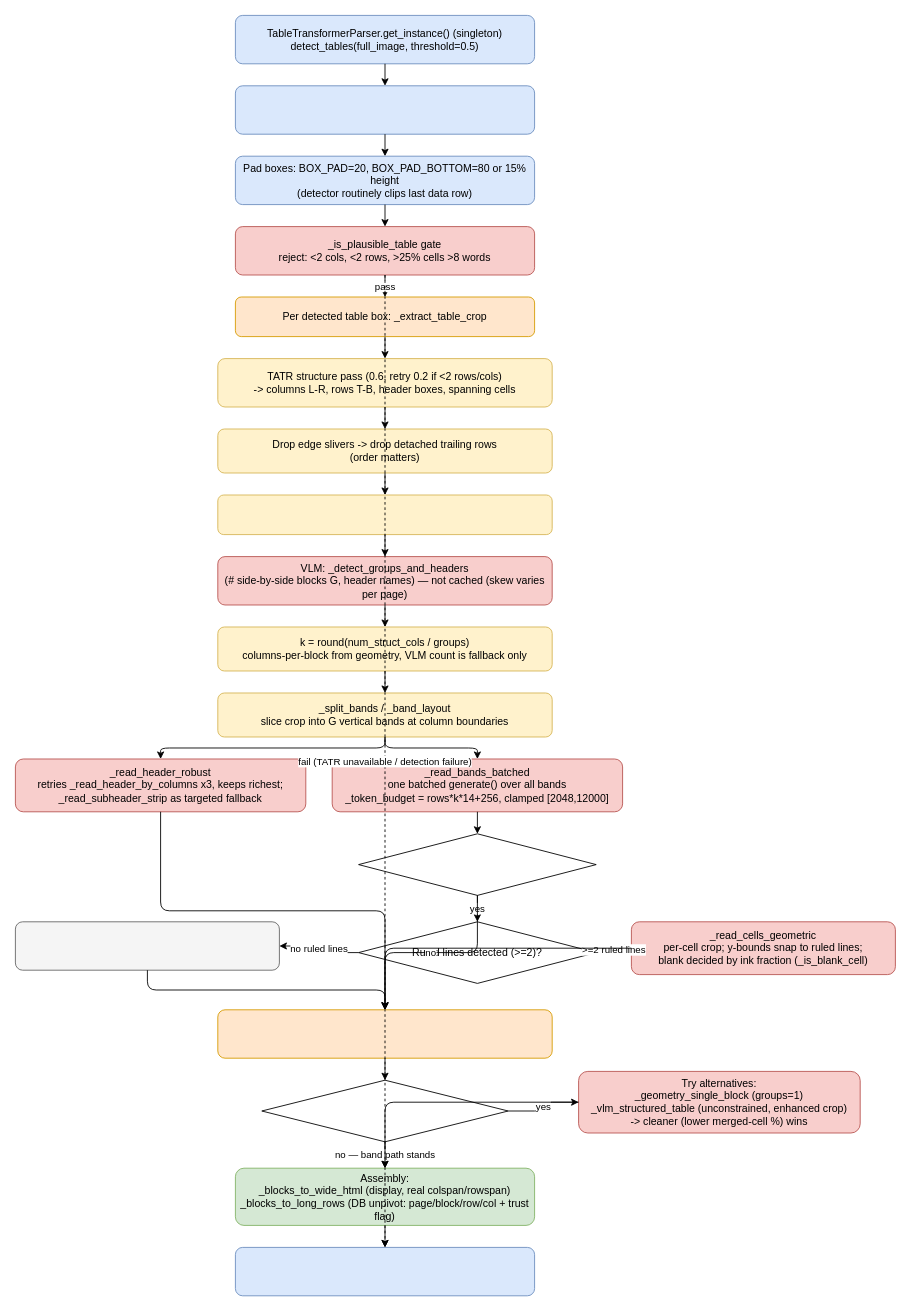
This 911x1311 diagram has some shape labels left out. The box of each missing label's shape, as (x1, y1, x2, y2) in pixels:
_merge_stacked_boxes merge header-band/body splits & overlapping dupes: (235, 85, 535, 134)
_structured_quality_ok gate MERGED_CELL_FRACTION_MAX=0.06 (multi-number cells): (217, 1009, 552, 1058)
Column count ignored in band? (>50% rows wrong cell count): (358, 833, 596, 895)
Grid looks column-merged?: (261, 1079, 508, 1142)
Return { tables, boxes, structured } never raises — empty shape on any failure: (235, 1247, 535, 1296)
Skip escalation (unruled/handwritten: per-cell crops come back as junk): (15, 921, 279, 970)
Trim bottom padding to last real row (row geometry): (217, 494, 552, 535)
